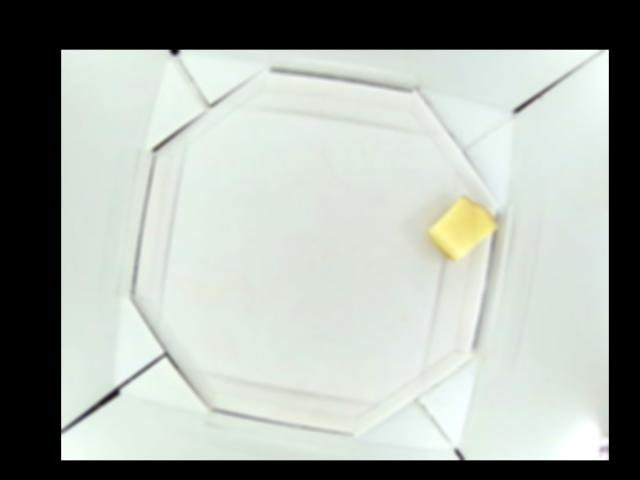Potato: (427, 198, 495, 261)
